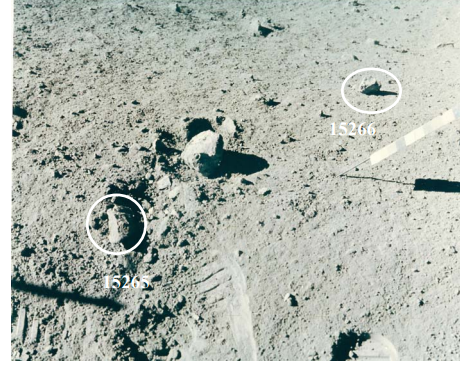Breccia: (150, 122, 247, 190), (71, 203, 138, 257), (357, 71, 413, 104), (242, 7, 279, 37)
